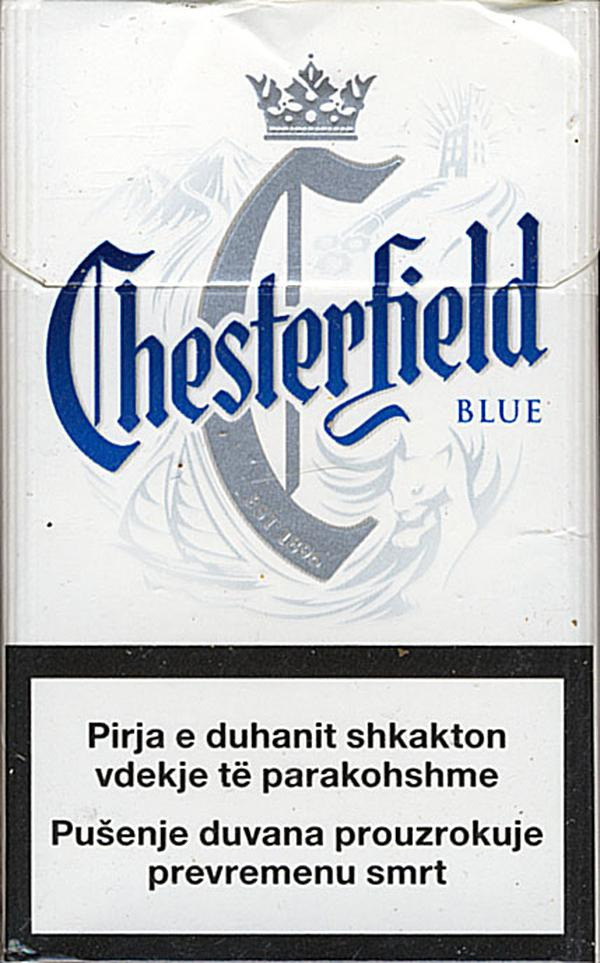chesterfield_blue: (3, 4, 598, 961)
